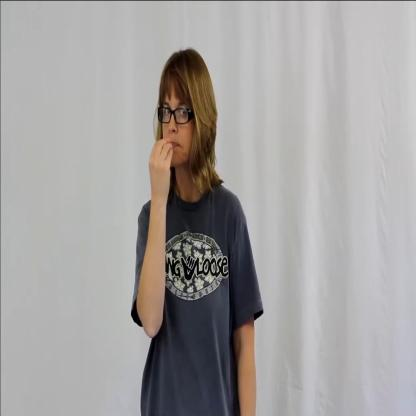Food: (141, 34, 225, 199)
